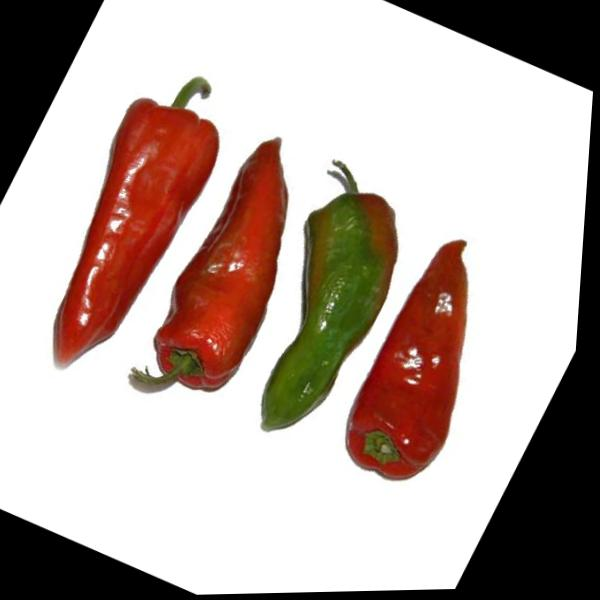organic: (55, 78, 218, 376), (131, 120, 286, 390), (262, 160, 396, 429), (347, 240, 466, 478)
